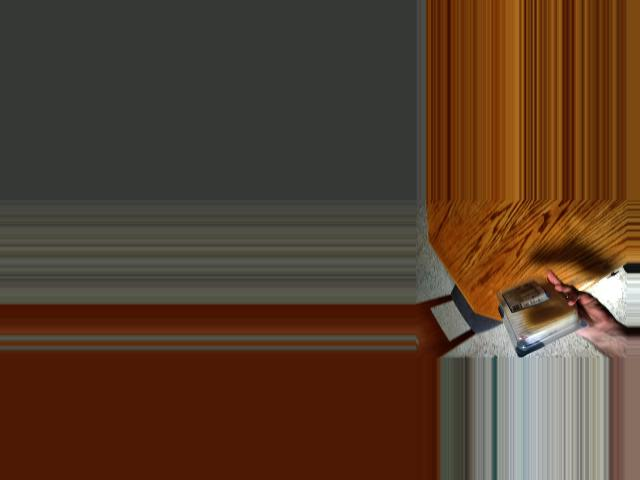cheese: (497, 285, 580, 344)
